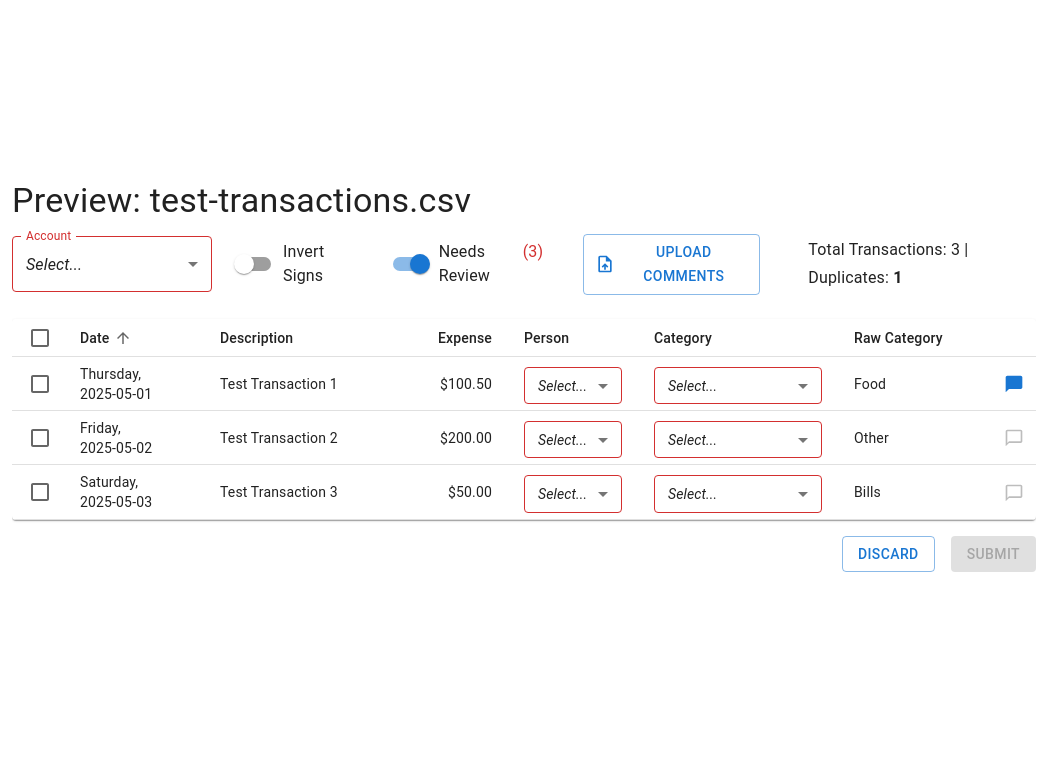
it: PreviewPage › shows undo snackbar after bulk update and performs undo
Expected: the text "Test Transaction 1" is shown, x1=204 y1=357 x2=396 y2=411
# Perform bulk update on first row
Press the mouse on the 3rd dropdown "Select..." at (693, 386), box x1=668 y1=378 x2=717 y2=394
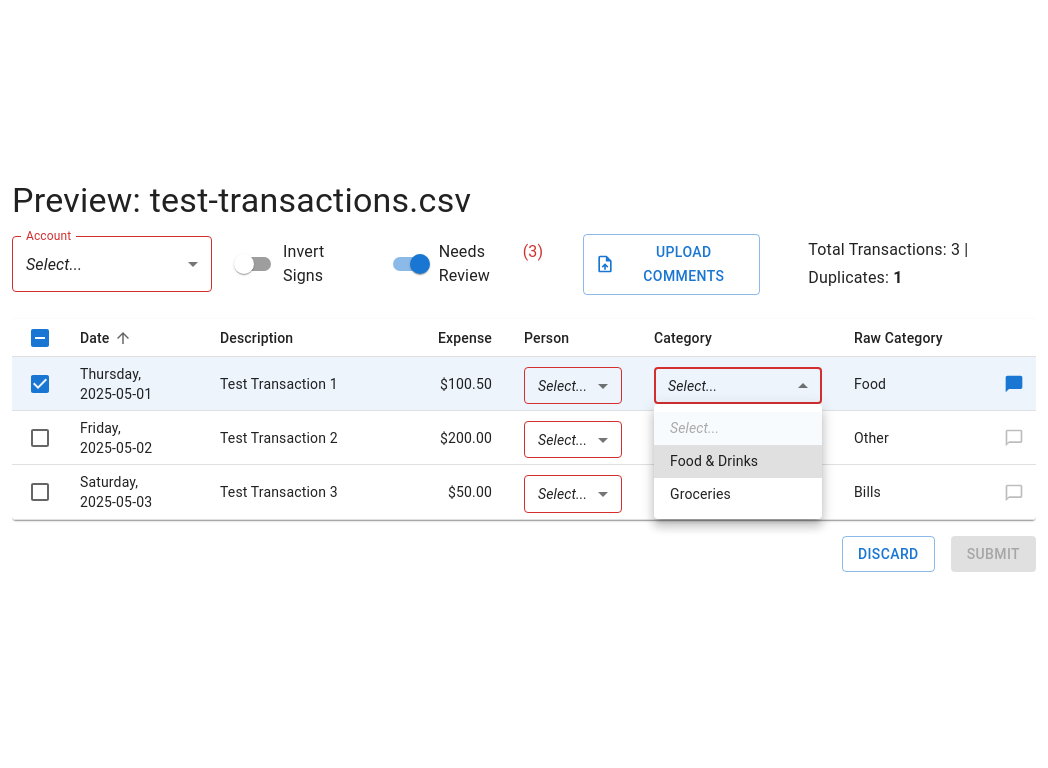
Click the option "Groceries". click: (700, 494)
box: x1=670 y1=486 x2=731 y2=502
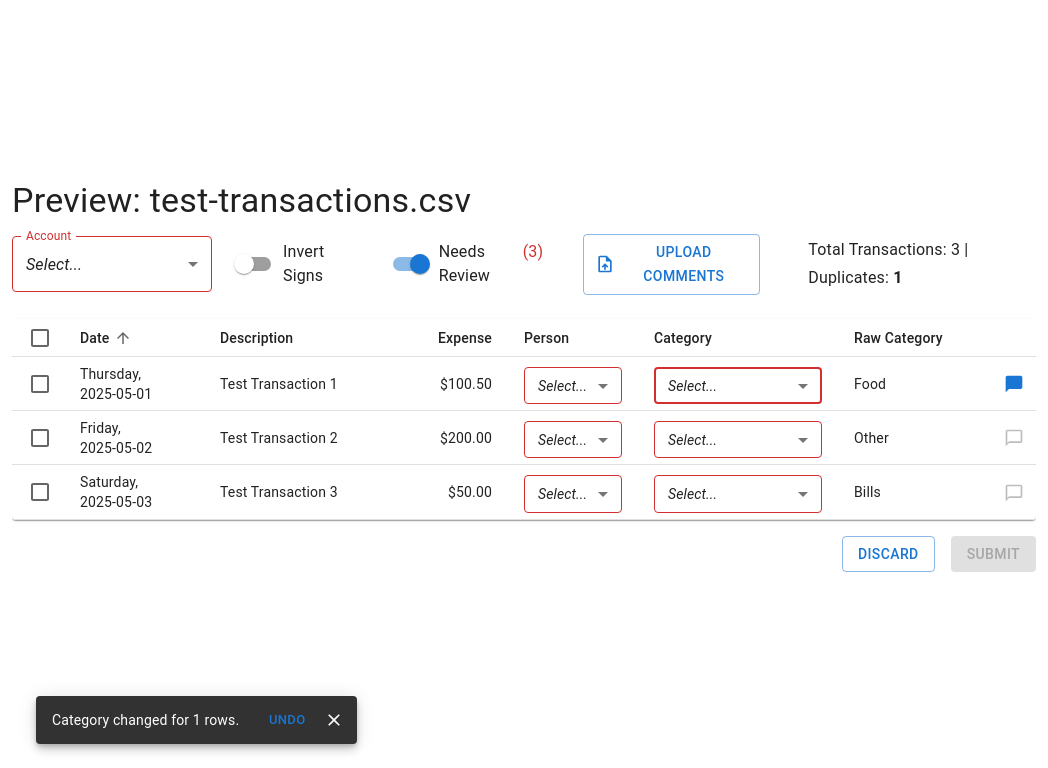
Expected: the text "Category changed for 1 rows." is shown, x1=52 y1=712 x2=239 y2=728
Expected: the button "UNDO" is shown
# Click UNDO
Click the button "UNDO". click: (287, 720)
box: x1=255 y1=705 x2=319 y2=735
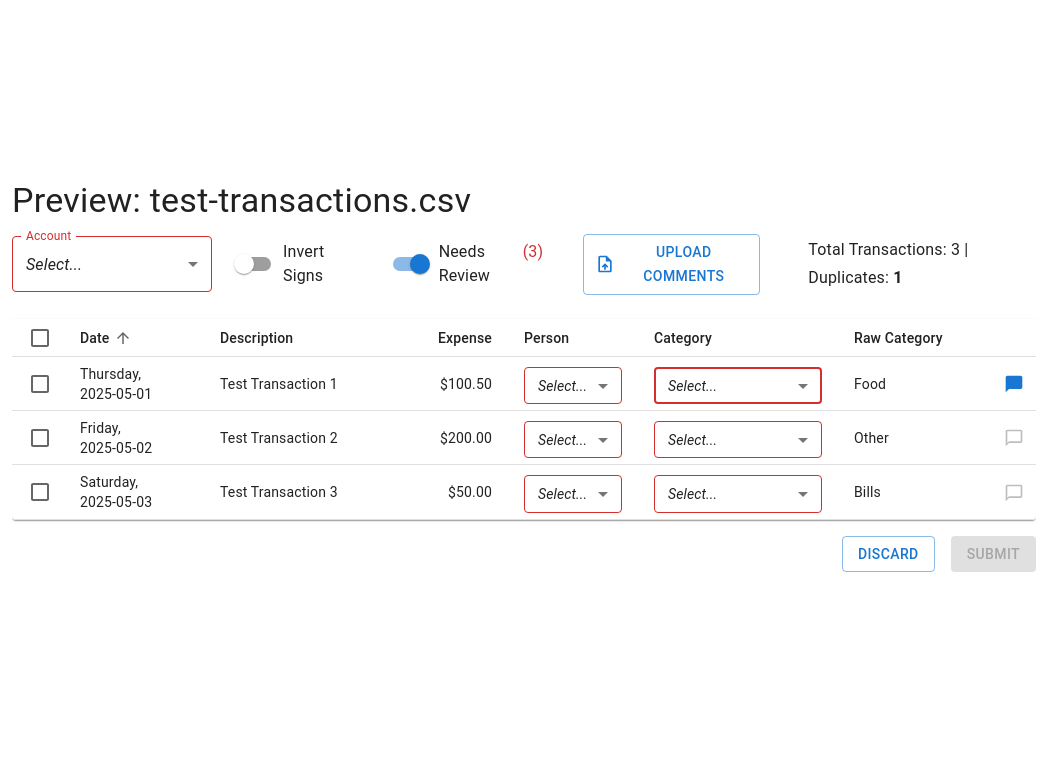
Expected: the text "Category changed for 1 rows" is gone
